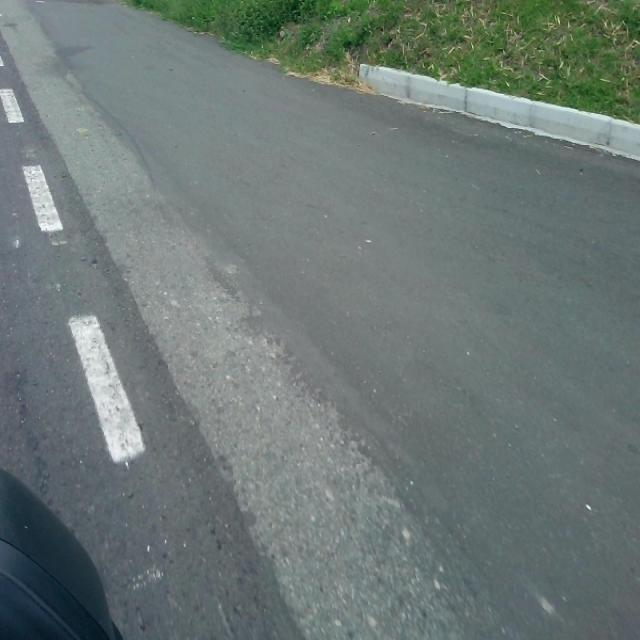DITCH: (2, 1, 638, 638), (1, 18, 638, 637)
